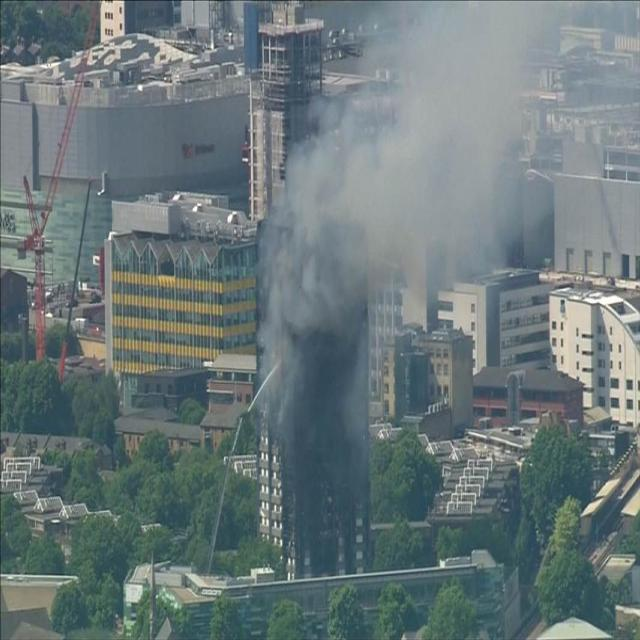Smoke: (363, 0, 562, 277), (250, 118, 375, 502)
